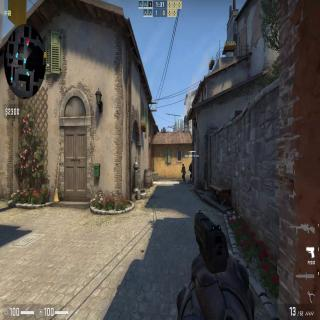T-Body: (181, 164, 185, 182)
T-Head: (182, 164, 184, 168)
